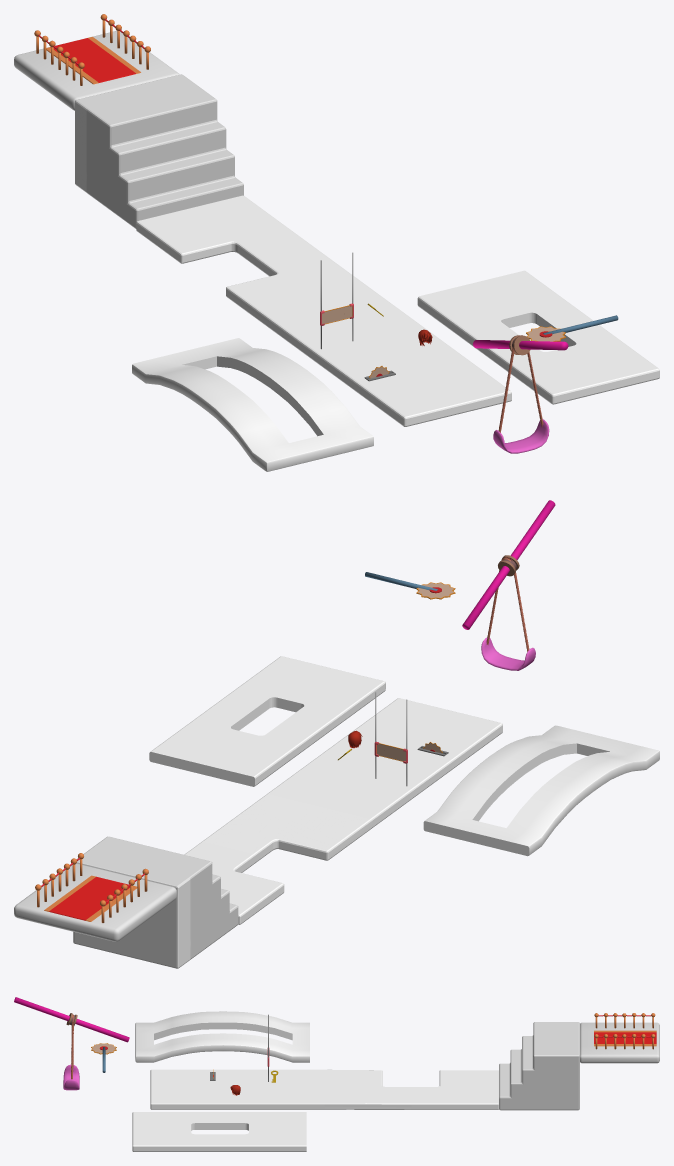
The model's file is Hair_Challenge_Object_Models.fbx.
3 views of the same model, one above another, from view 1: azimuth 30°, elevation 25°; view 2: azimuth 150°, elevation 25°; view 3: azimuth 270°, elevation 25° (orthographic). The views are drawn at different scales.
Parts seen in each view (by area): view 1: Stairs, straight_Road, Middle_space_Way, Bridge_Obstacle, half_Way, podium_platform, carpet, swing, Swing_ıron, podium_iron_2, podium_iron; view 2: Middle_space_Way, straight_Road, Bridge_Obstacle, Stairs, half_Way, podium_platform, carpet, swing, Swing_ıron, podium_iron, podium_iron_2; view 3: straight_Road, Middle_space_Way, Bridge_Obstacle, Stairs, half_Way, podium_platform, carpet, Swing_ıron, swing, podium_iron_2, podium_iron.
Boxes of the visible parts, left/top/right/bottom form: Stairs: left=75, top=74, right=243, bottom=228; straight_Road: left=269, top=293, right=511, bottom=426; Middle_space_Way: left=417, top=270, right=659, bottom=404; Bridge_Obstacle: left=132, top=338, right=373, bottom=471; half_Way: left=136, top=195, right=376, bottom=328; podium_platform: left=14, top=30, right=179, bottom=110; carpet: left=46, top=36, right=140, bottom=84; swing: left=493, top=335, right=549, bottom=453; Swing_ıron: left=473, top=340, right=568, bottom=350; podium_iron_2: left=34, top=30, right=84, bottom=85; podium_iron: left=100, top=14, right=150, bottom=69; Middle_space_Way: left=149, top=656, right=385, bottom=786; straight_Road: left=267, top=698, right=502, bottom=827; Bridge_Obstacle: left=423, top=725, right=659, bottom=856; Stairs: left=73, top=836, right=238, bottom=968; half_Way: left=184, top=793, right=372, bottom=924; podium_platform: left=14, top=863, right=176, bottom=941; carpet: left=44, top=875, right=137, bottom=921; swing: left=481, top=557, right=535, bottom=670; Swing_ıron: left=462, top=500, right=555, bottom=629; podium_iron: left=35, top=853, right=83, bottom=907; podium_iron_2: left=100, top=868, right=148, bottom=922; straight_Road: left=150, top=1069, right=324, bottom=1109; Middle_space_Way: left=132, top=1112, right=306, bottom=1151; Bridge_Obstacle: left=135, top=1011, right=309, bottom=1062; Stairs: left=499, top=1022, right=579, bottom=1110; half_Way: left=324, top=1069, right=498, bottom=1109; podium_platform: left=580, top=1022, right=659, bottom=1063; carpet: left=594, top=1030, right=656, bottom=1046; Swing_ıron: left=14, top=997, right=129, bottom=1042; swing: left=63, top=1014, right=79, bottom=1090; podium_iron_2: left=594, top=1013, right=655, bottom=1028; podium_iron: left=594, top=1034, right=655, bottom=1049.
Bounding box in the file's own units: 724 × 265 × 1599.
Materials: 20 (2 with a texture image).
